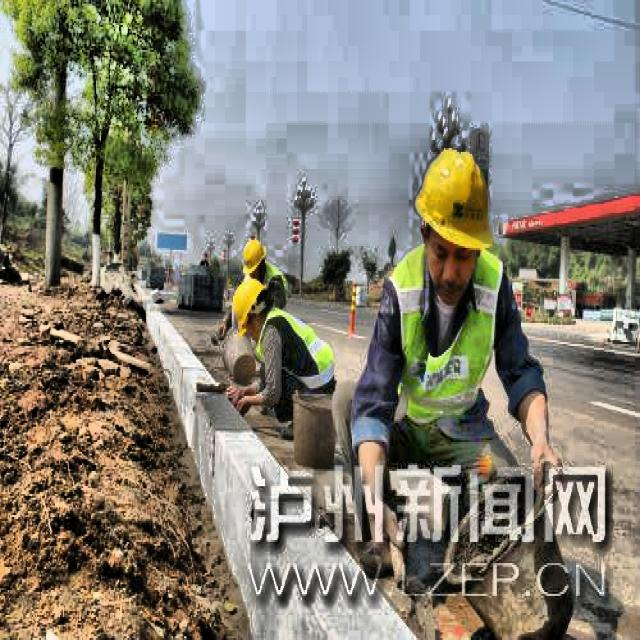helmet: (409, 134, 492, 302), (226, 281, 272, 346), (242, 234, 270, 280)
